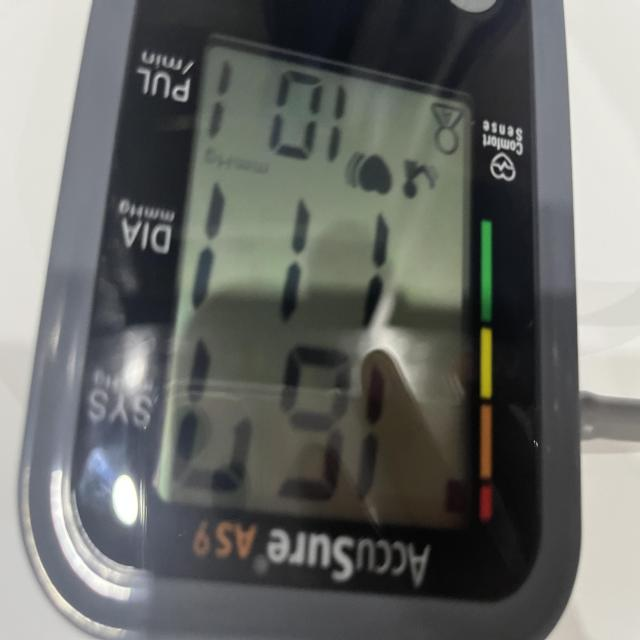bp: (13, 0, 583, 640)
